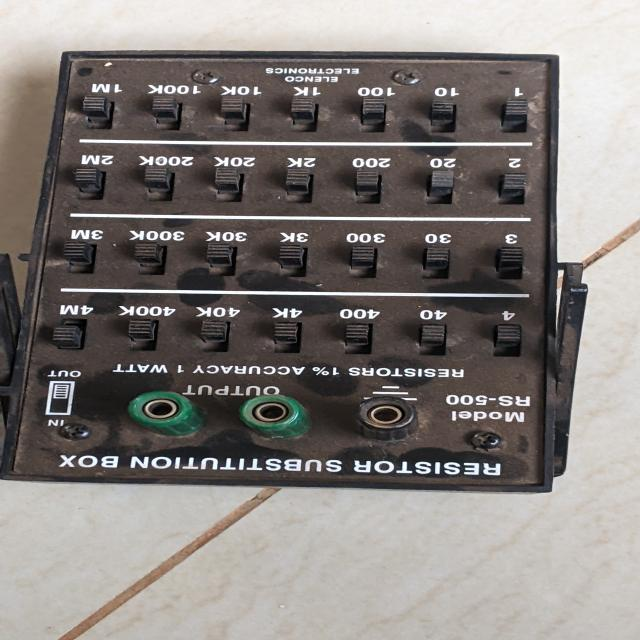Resistor Substitution Box: (0, 31, 616, 506)
